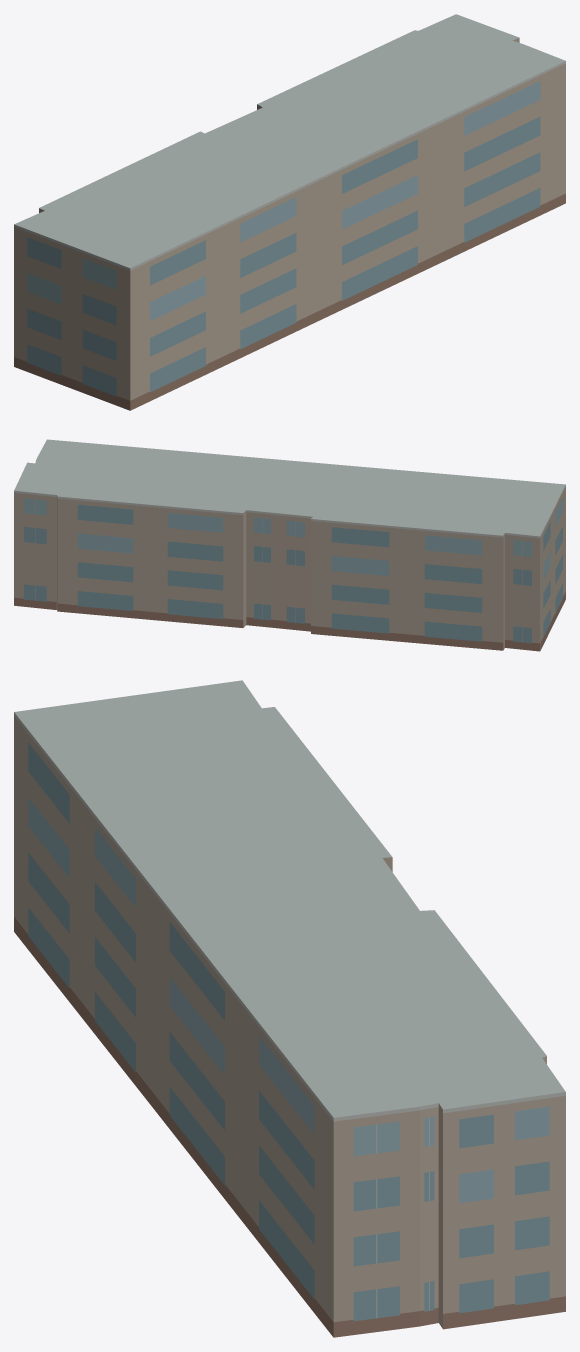
Rendered from survey-upis-32859013.glb.
The picture shows the model from 3 angles, top to bottom: view 1: azimuth 30°, elevation 25°; view 2: azimuth 150°, elevation 25°; view 3: azimuth 270°, elevation 25°; orthographic projection. The views are drawn at different scales.
Parts seen in each view (by area): view 1: survey-upis-32859013.tmp; view 2: survey-upis-32859013.tmp; view 3: survey-upis-32859013.tmp.
Part boxes in pixels (x1,y1,x2,y2): survey-upis-32859013.tmp: (14, 14, 565, 410); survey-upis-32859013.tmp: (14, 439, 565, 651); survey-upis-32859013.tmp: (14, 680, 565, 1337).
Size of the model in its own units: 60.25 by 14.11 by 32.12.
